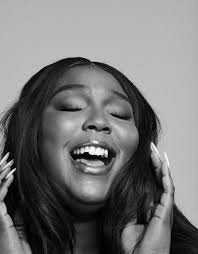black_female: (18, 54, 156, 237)
